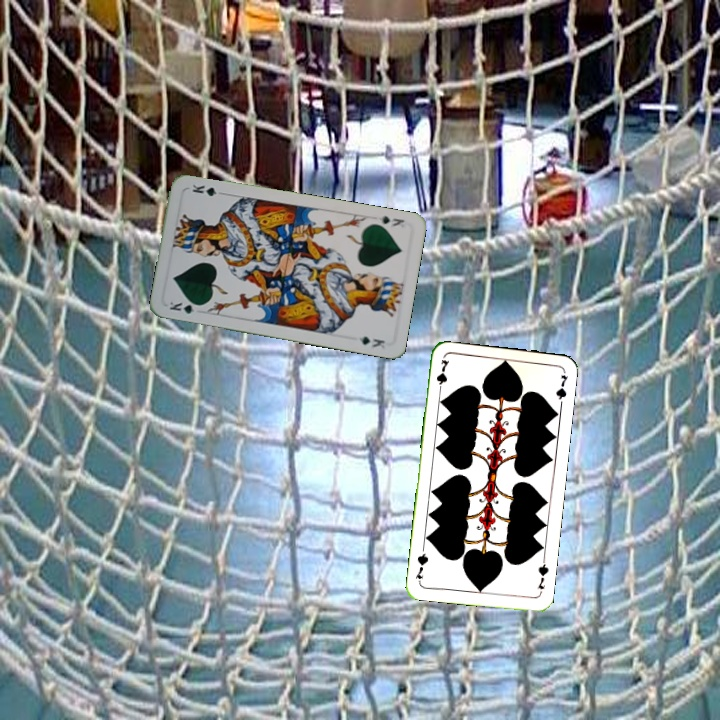G7: (433, 356, 451, 396), (533, 556, 551, 592)
GK: (165, 297, 205, 316), (374, 211, 407, 230)
